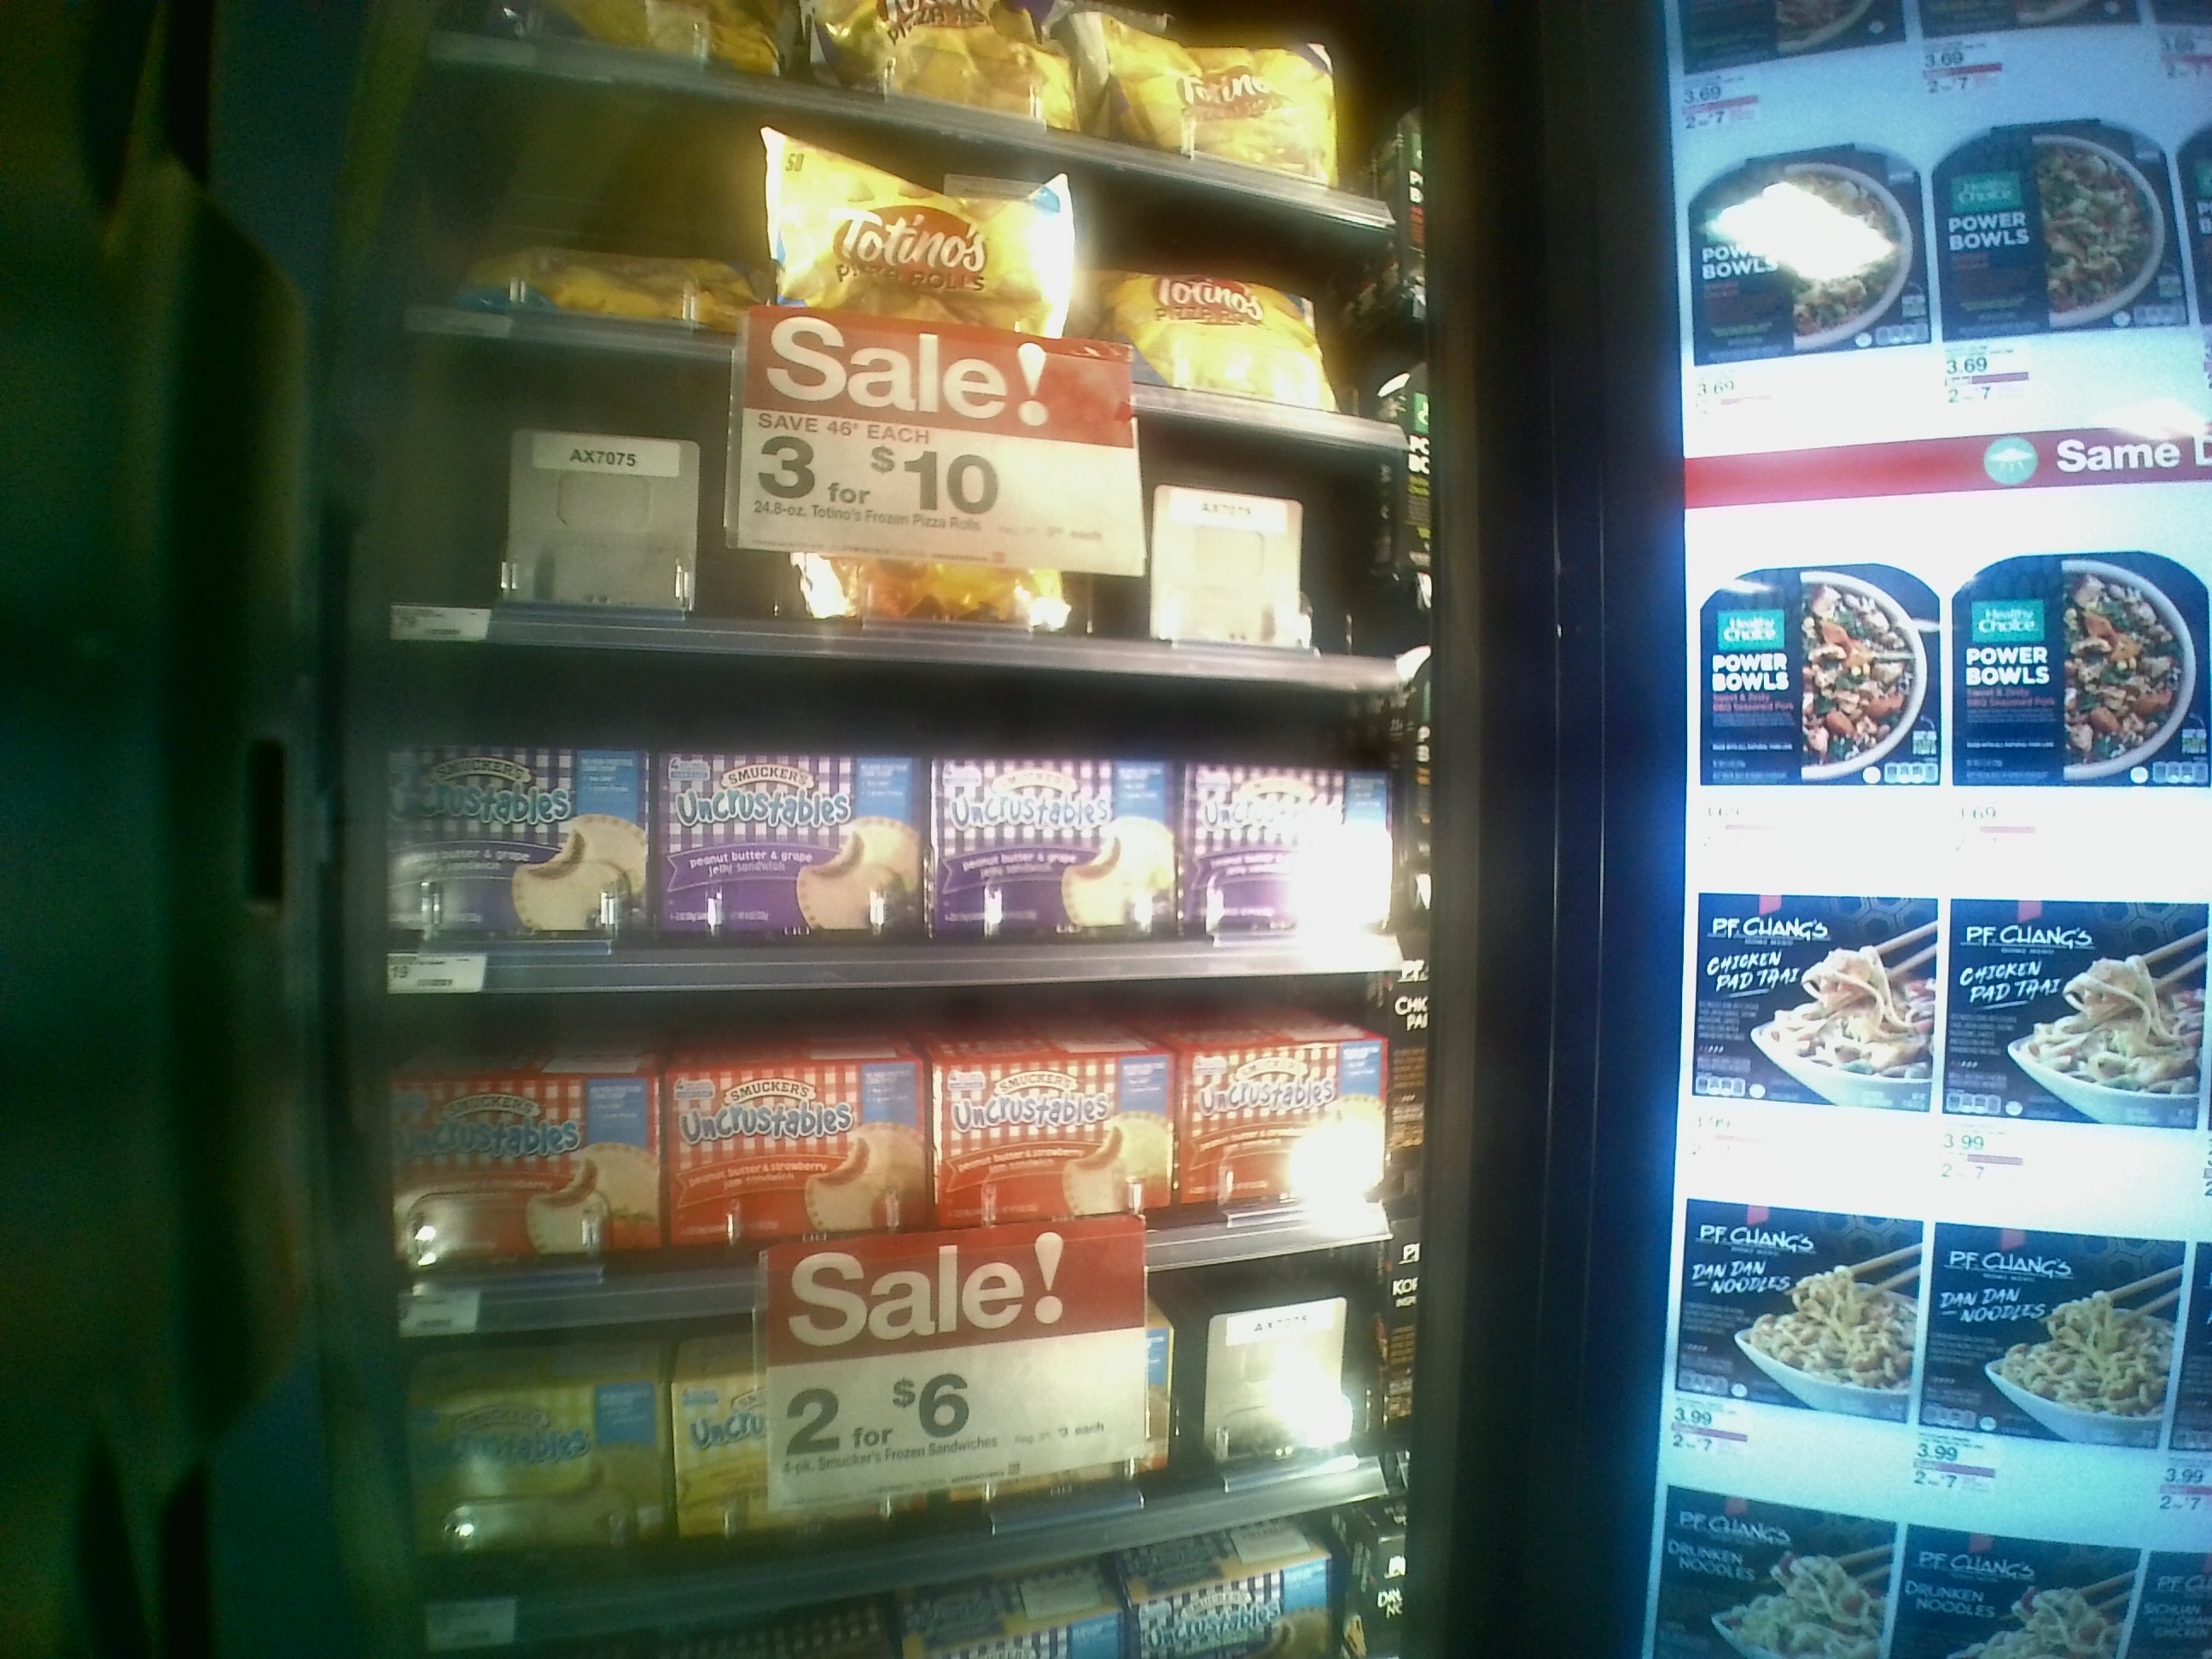shelf: (350, 633, 1418, 979), (341, 993, 1393, 1272)
